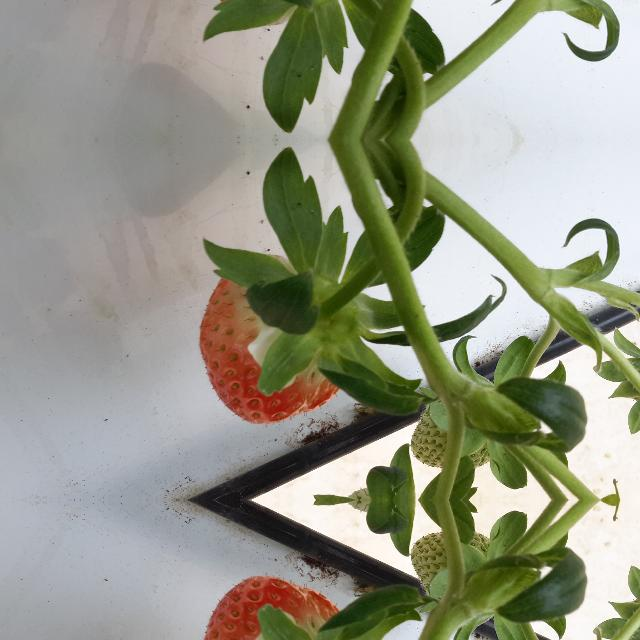Health_100: (197, 255, 341, 423), (197, 577, 341, 640)
Health_25: (409, 378, 486, 467), (409, 534, 486, 622)
